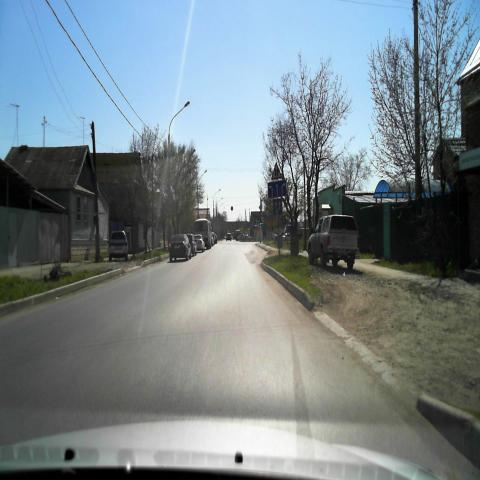1_21: (271, 161, 283, 179)
